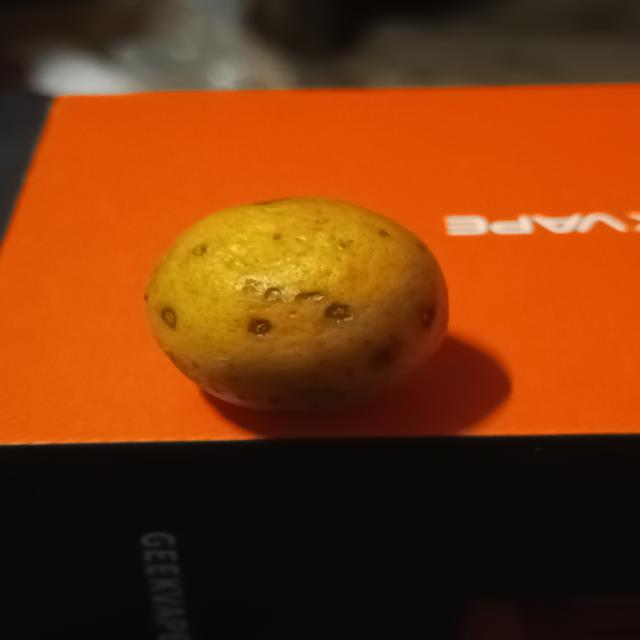black spot: (144, 196, 458, 420)
